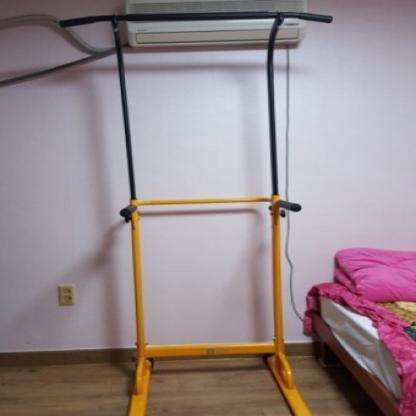chinning dipping: (58, 10, 313, 416)
